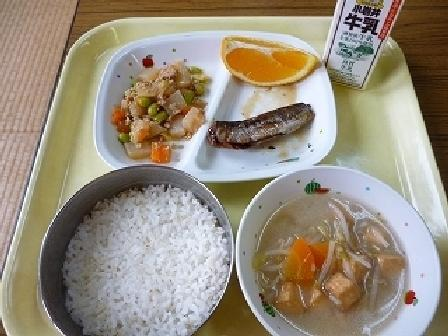Citrus: (202, 17, 323, 96)
Fish: (206, 87, 319, 160)
Milk: (321, 2, 412, 82)
Rice: (43, 169, 232, 326)
Soups: (244, 162, 438, 335)
vegetable based cooked food: (101, 56, 210, 169)
